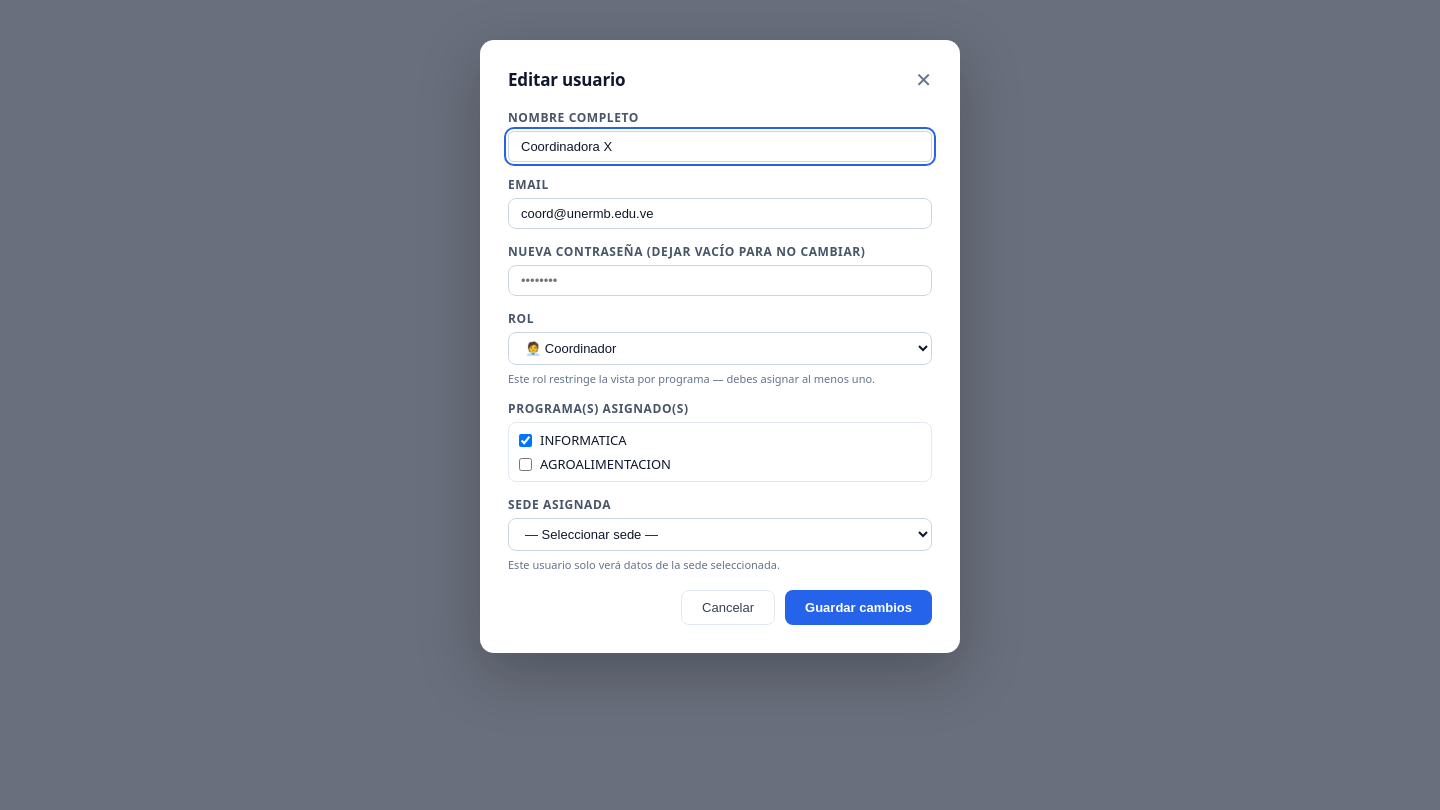
ModalUsuario — editar usuario existente › un rol sin puedeVerTodasLasSedes exige sede asignada
Click the button "Guardar cambios": (859, 608) [785,590,932,625]
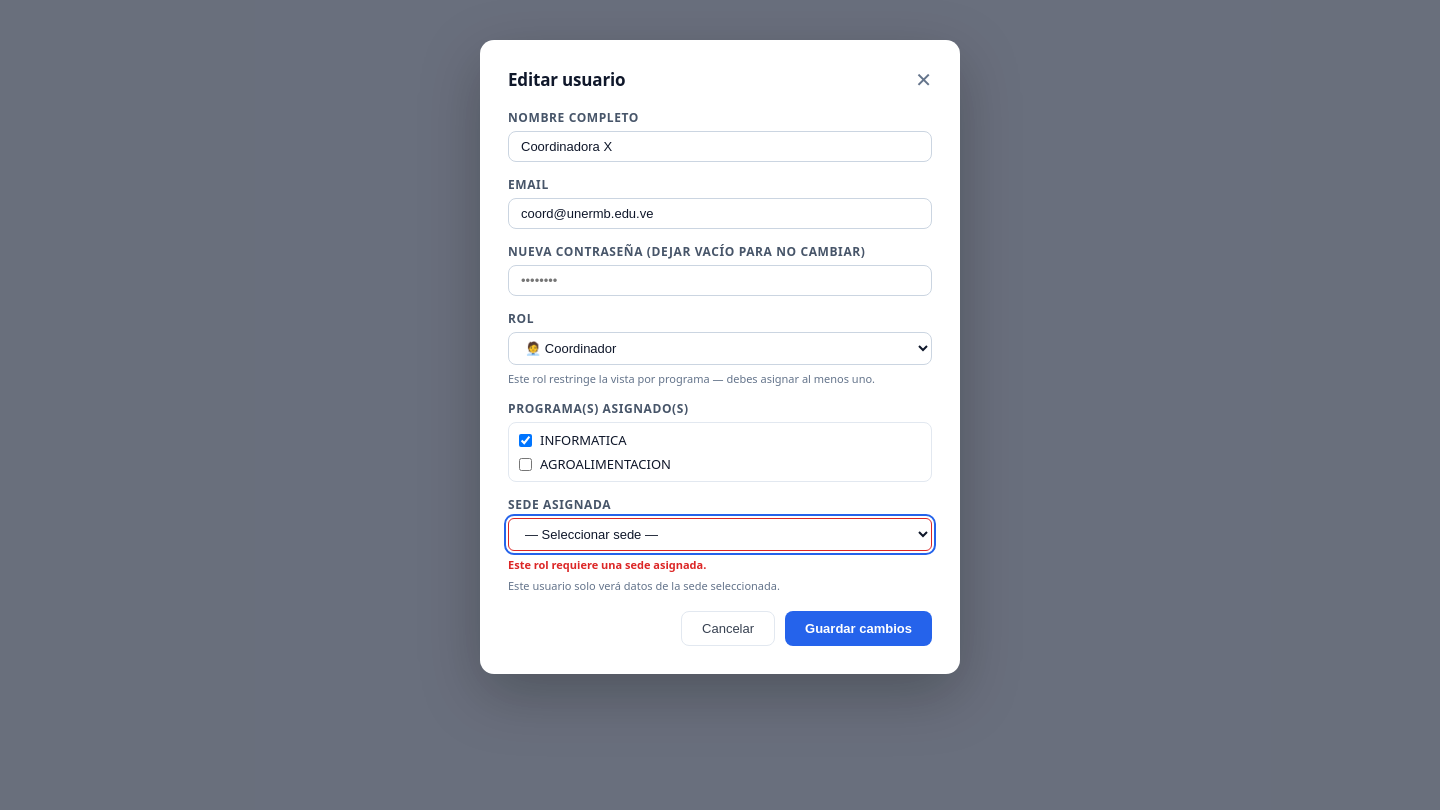
Check: the text "Este rol requiere una sede asignada." is shown, box [508,557,706,572]
